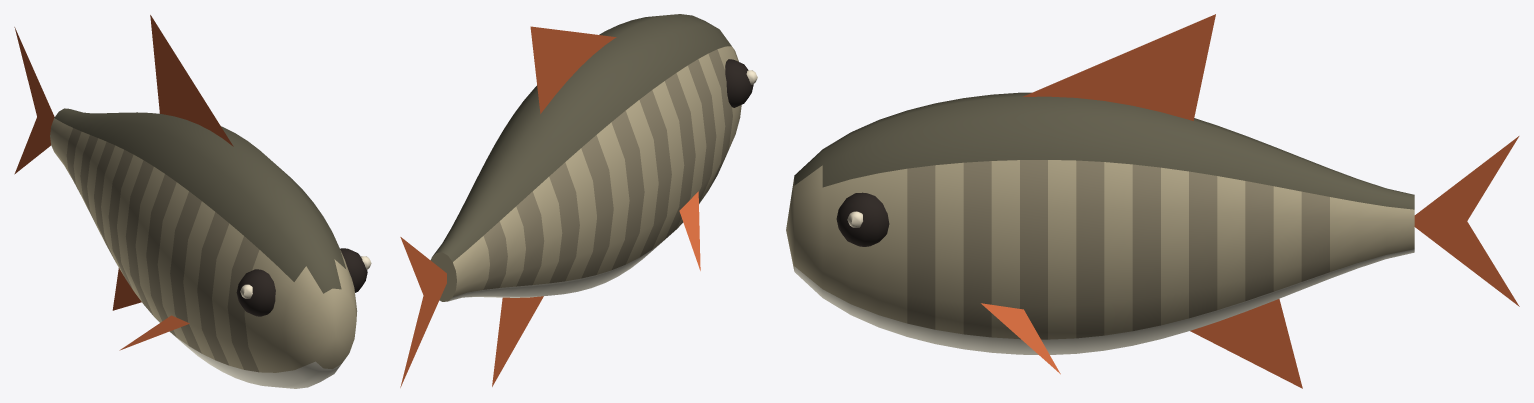
File: chub.fbx
3 views of the same model, side by side, from view 1: azimuth 30°, elevation 25°; view 2: azimuth 150°, elevation 25°; view 3: azimuth 270°, elevation 25° (orthographic). The views are drawn at different scales.
Parts seen in each view (by area): view 1: Fish_chub_EXP; view 2: Fish_chub_EXP; view 3: Fish_chub_EXP.
Part boxes in pixels (box(x1,y1,x2,y2)): Fish_chub_EXP: box(14, 15, 371, 388); Fish_chub_EXP: box(400, 14, 757, 387); Fish_chub_EXP: box(786, 14, 1519, 388).
Size of the model in its own units: 0.1784 by 0.2802 by 0.4971.
